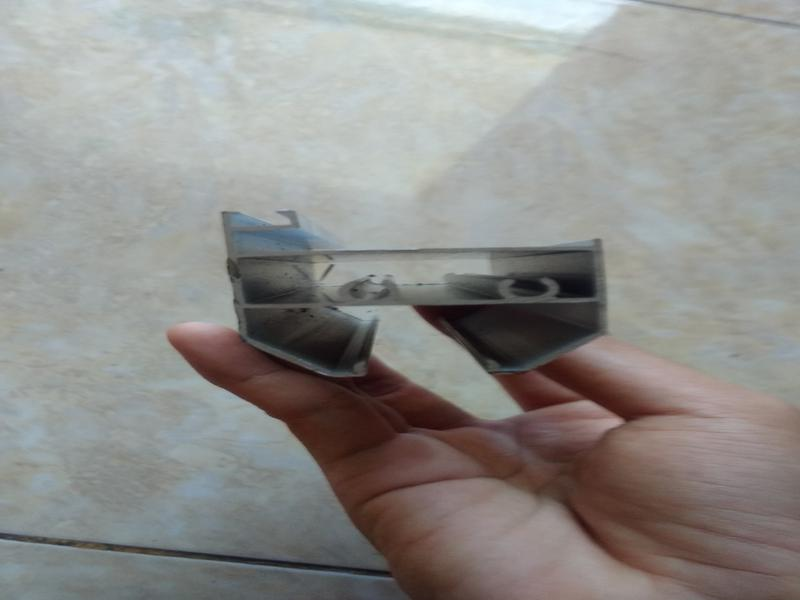Aluminium_3: (196, 187, 632, 378)
